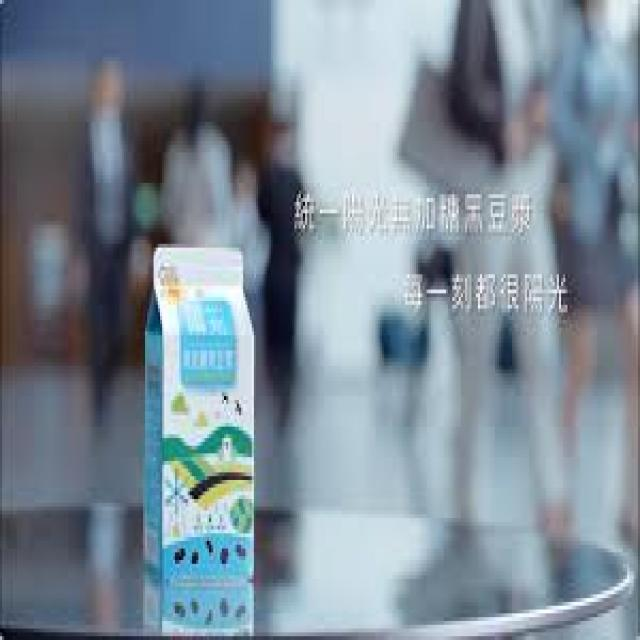TongYi_UnsweetenedBlackSoyMilk: (145, 236, 258, 640)
